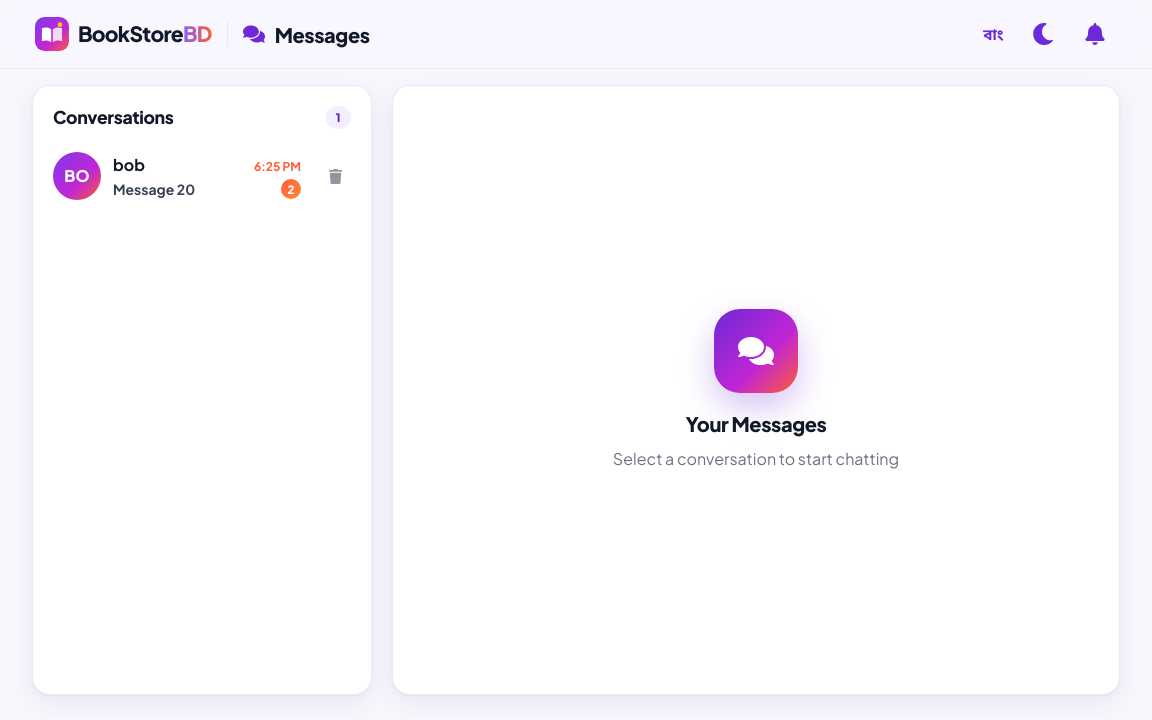
it: the chat page › loads older messages with the session
The width and height of the screenshot is (1152, 720).
What coordinates should you click on to do the following:
click the text "bob"
I would click on:
 (129, 164)
Its box is [113,154,145,175].
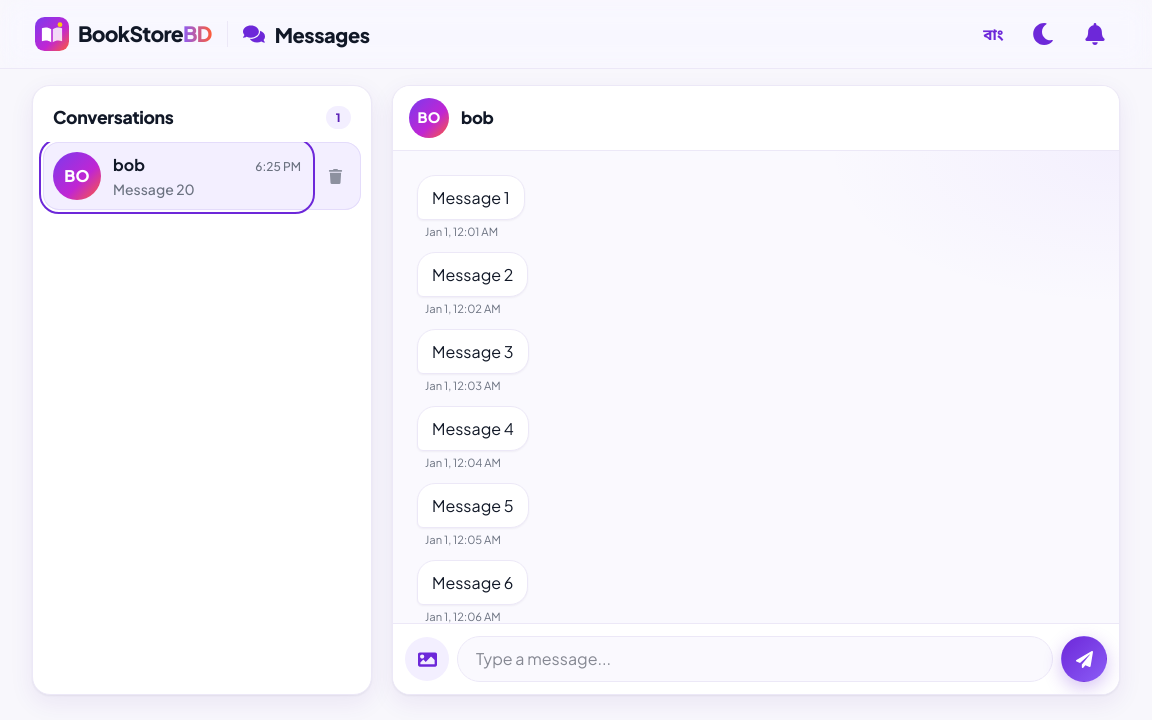
Now the text "Message 1" is shown, box [432,186,510,209]
